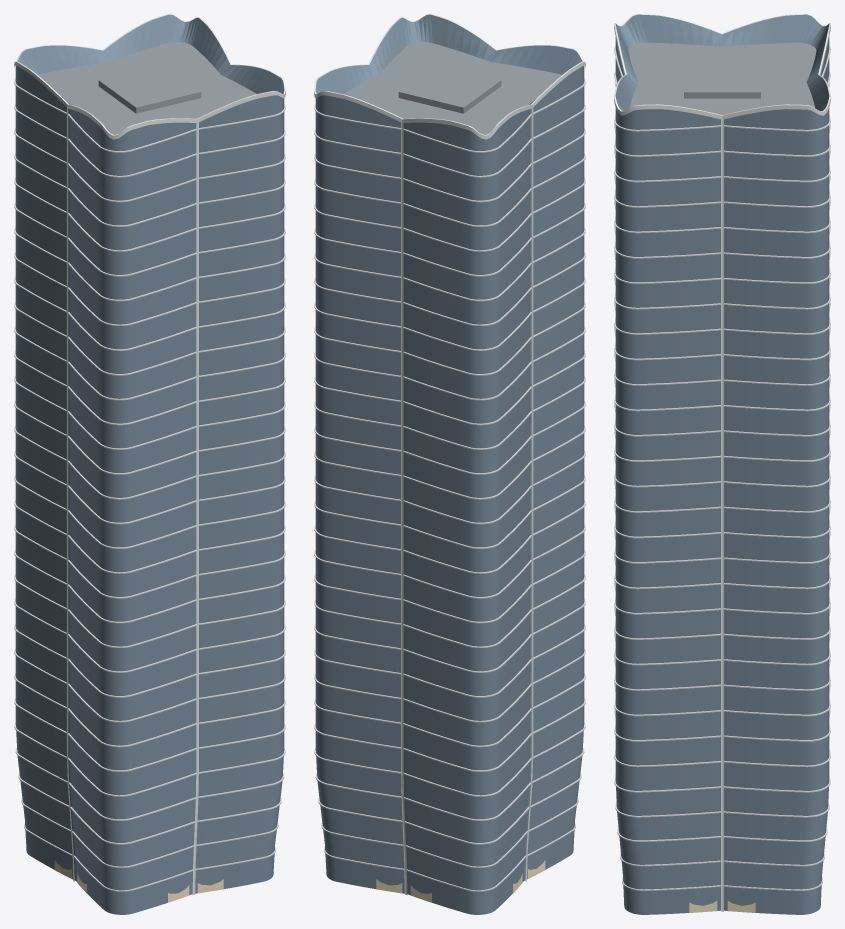
Rendered from tokyo-azabudai-hills-mori-jp-tower.detail.glb.
3 renders of one model, left to right at view 1: azimuth 30°, elevation 25°; view 2: azimuth 150°, elevation 25°; view 3: azimuth 270°, elevation 25°, orthographic. The views are drawn at different scales.
Visible parts, largest first — view 1: Azabudai Hills Mori JP Tower; view 2: Azabudai Hills Mori JP Tower; view 3: Azabudai Hills Mori JP Tower.
Part boxes in pixels (box(x1,y1,x2,y2)): Azabudai Hills Mori JP Tower: box(14, 14, 285, 914); Azabudai Hills Mori JP Tower: box(314, 14, 585, 914); Azabudai Hills Mori JP Tower: box(614, 14, 830, 914).
Size of the model in its own units: 78.6 by 325 by 78.6.
